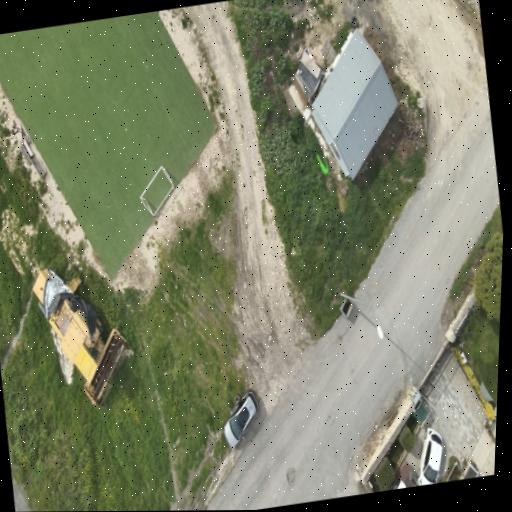car: (223, 390, 258, 447), (417, 428, 442, 485)
harvester: (32, 270, 126, 404)
person: (235, 393, 240, 402)
